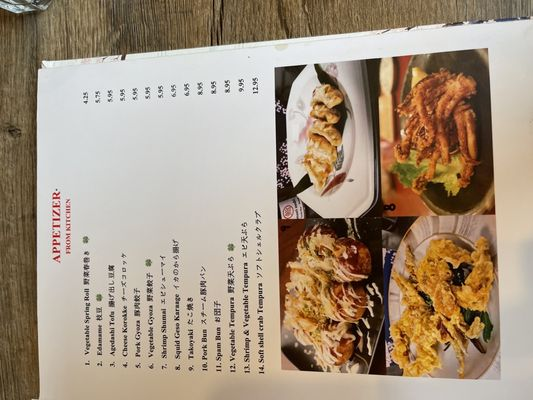soup: (388, 225, 498, 379)
